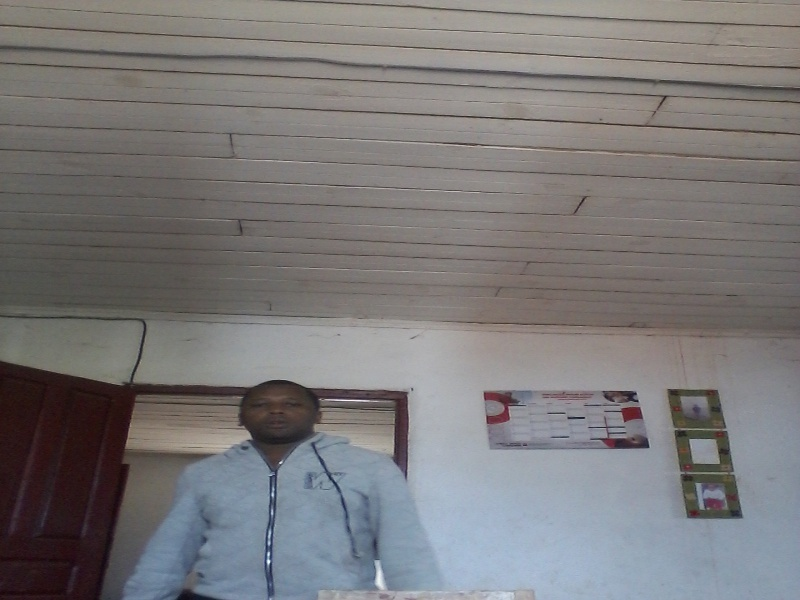TsisyArotava: (226, 376, 335, 451)
